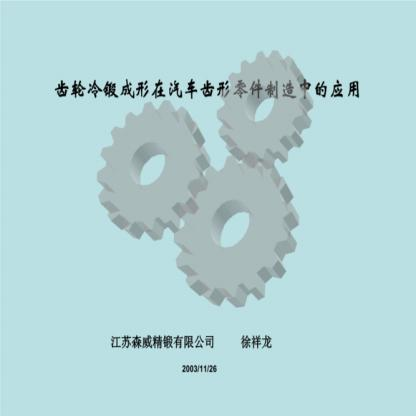FOD: (172, 151, 301, 308), (94, 100, 210, 244), (214, 46, 314, 170)
